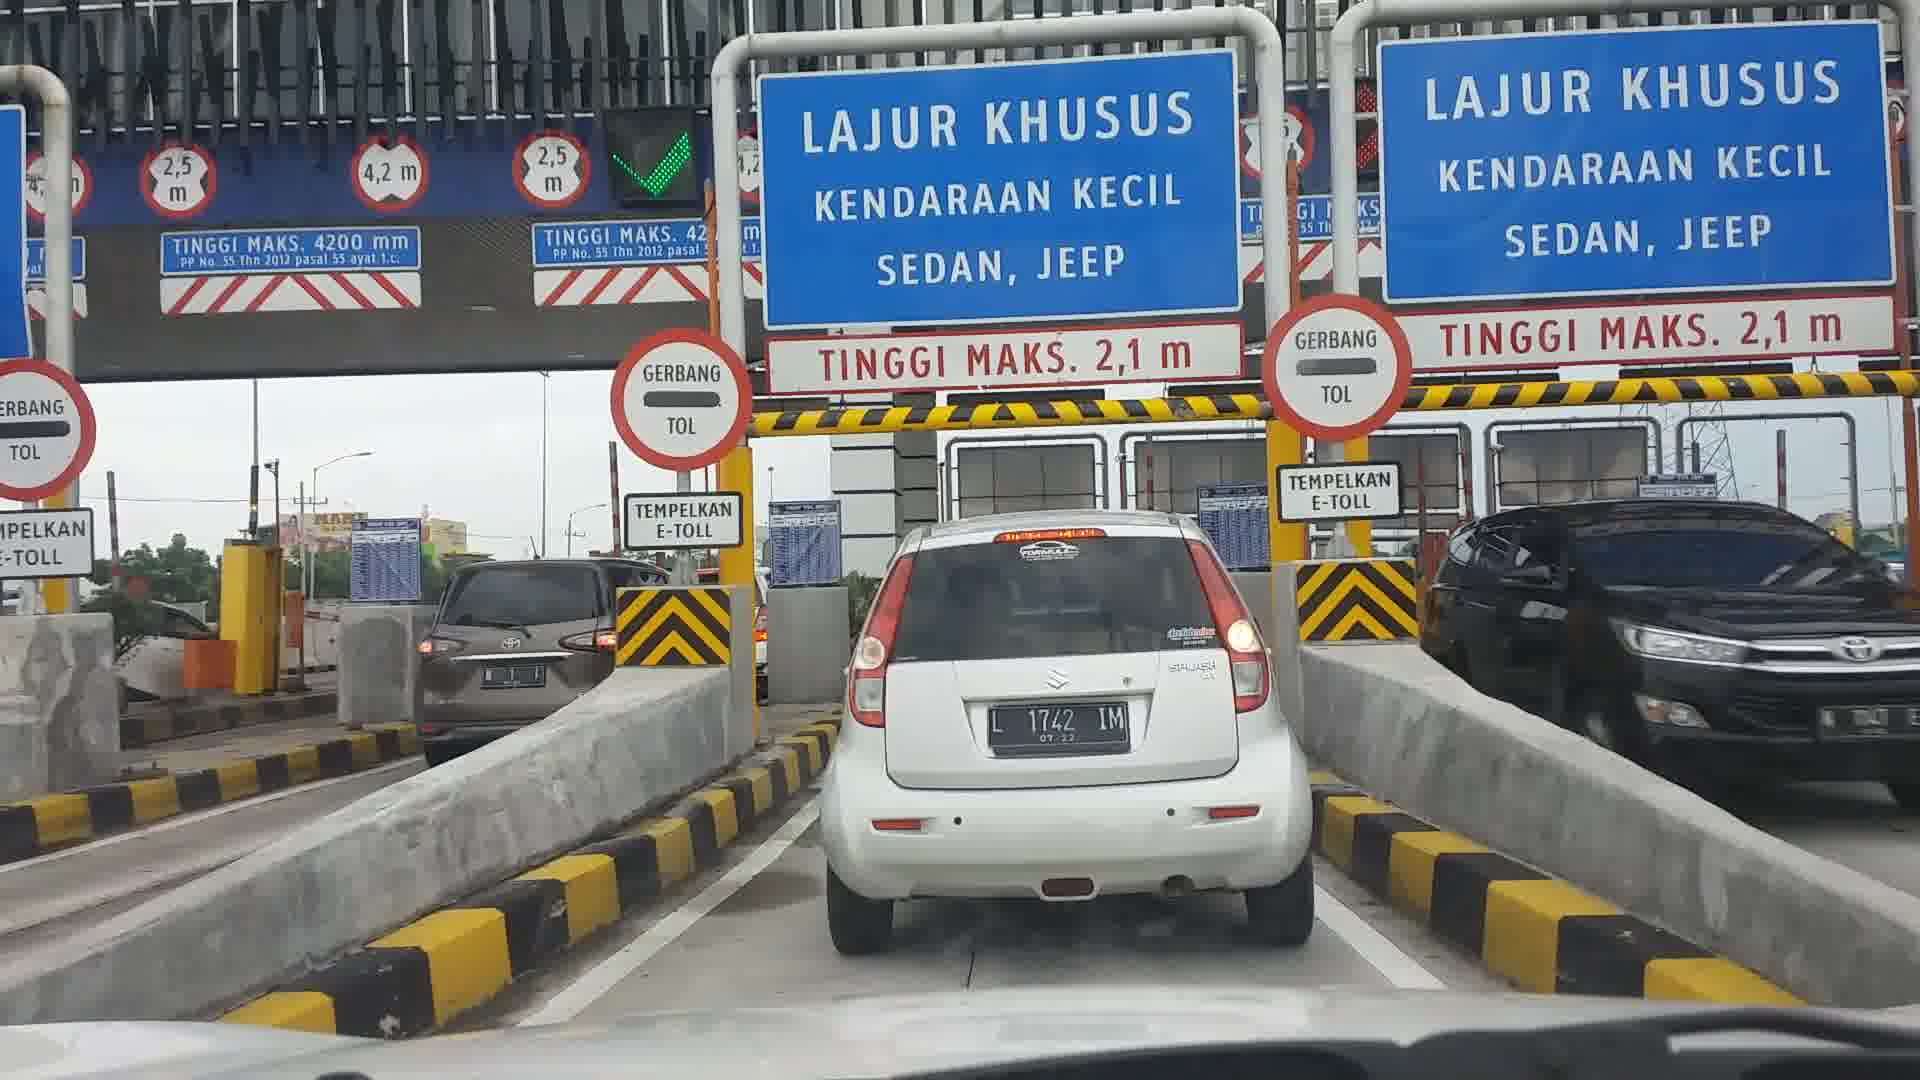plate_positive: (988, 702, 1131, 754), (481, 665, 545, 688)
